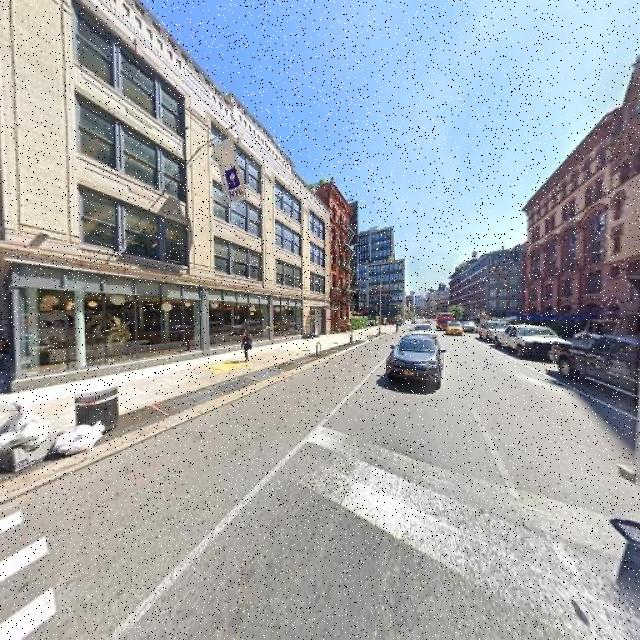Building: (8, 1, 328, 398), (537, 88, 640, 358), (330, 179, 354, 337)
